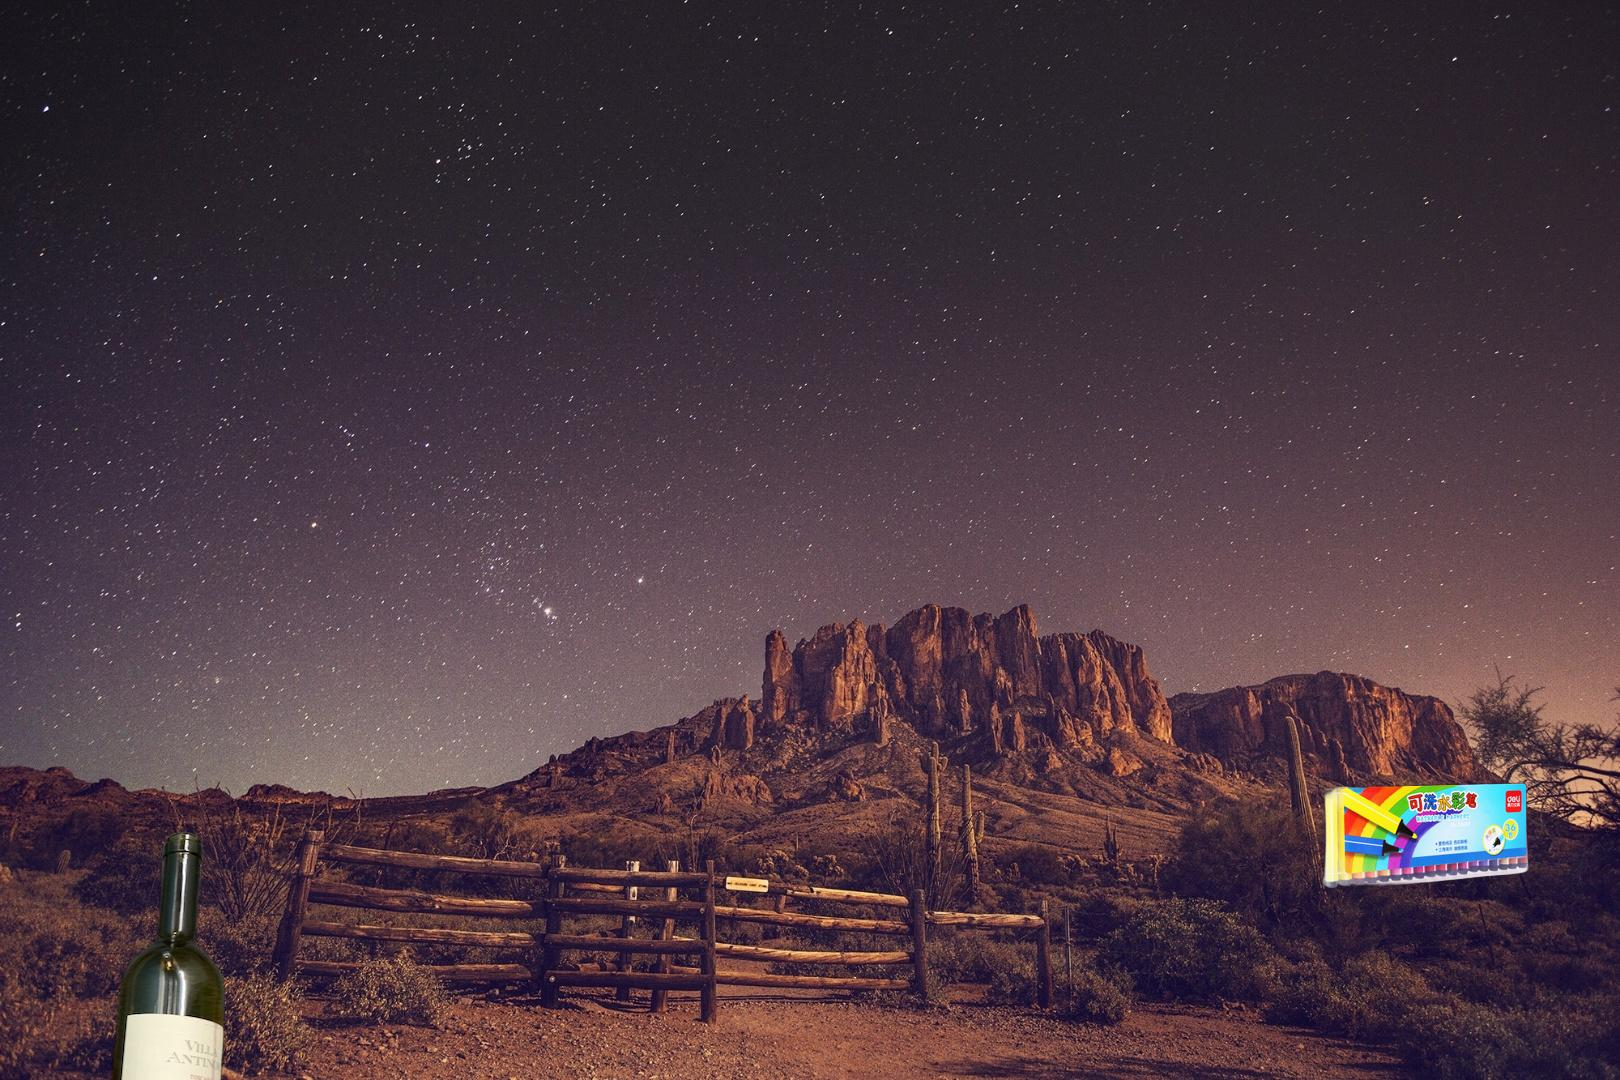glass: (90, 826, 230, 1080)
penholder: (1317, 755, 1532, 894)
